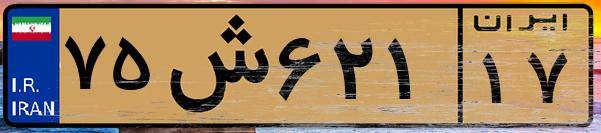1: (385, 28, 445, 110), (475, 38, 525, 113)
2: (330, 28, 385, 110)
5: (110, 28, 158, 98)
6: (270, 28, 330, 110)
7: (57, 26, 110, 100), (525, 38, 570, 115)
ش: (158, 12, 270, 120)
